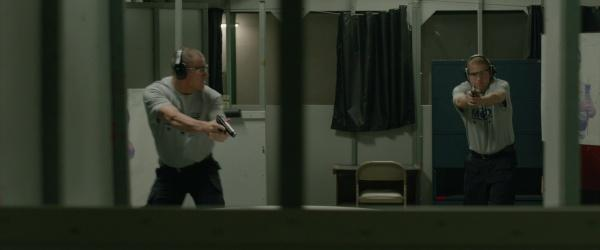Gun: (216, 114, 237, 137), (470, 87, 477, 100)
